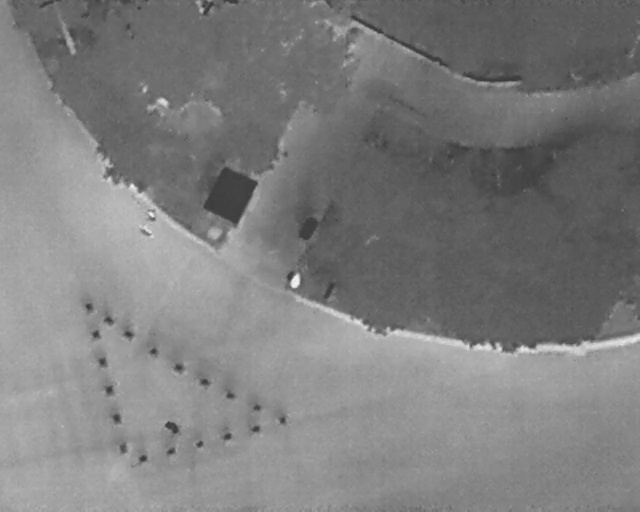Person: (135, 221, 158, 242), (146, 208, 157, 221)
